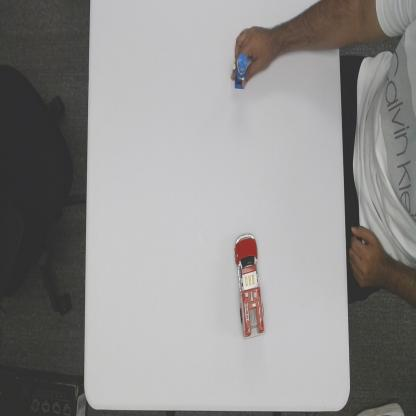Arm: (272, 3, 344, 55)
Firetruck: (234, 231, 265, 340)
Hand: (236, 23, 274, 76)
